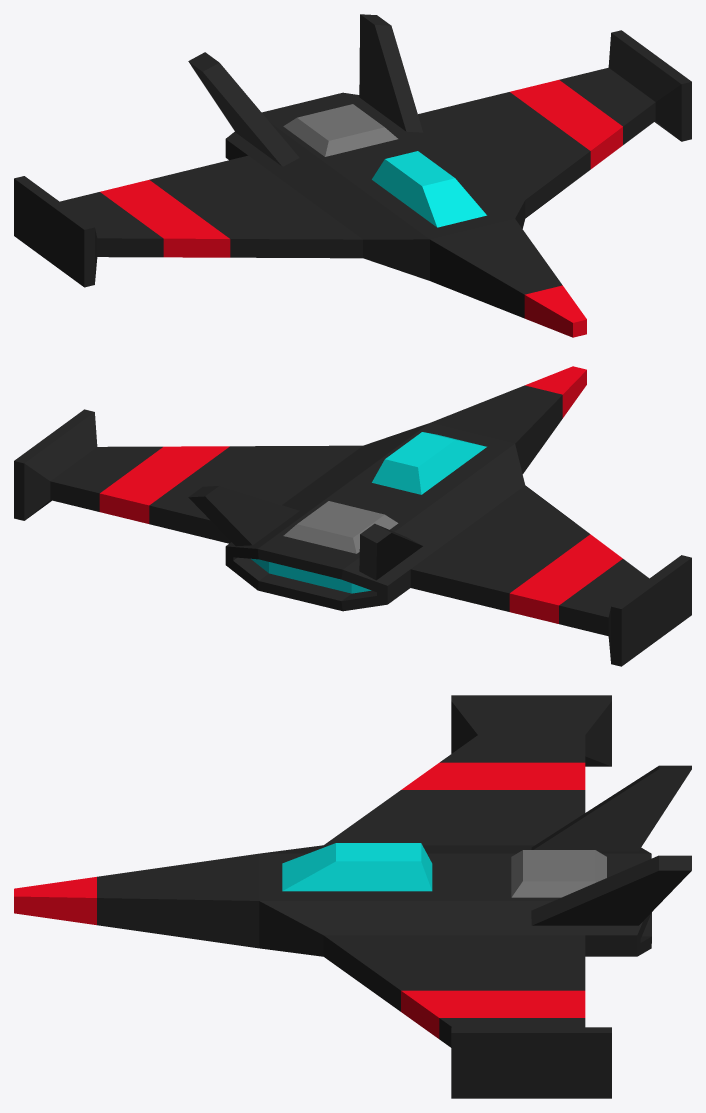
File: ModularJetMedium.fbx
3 renders of one model, top to bottom at view 1: azimuth 30°, elevation 25°; view 2: azimuth 150°, elevation 25°; view 3: azimuth 270°, elevation 25°, orthographic. The views are drawn at different scales.
Visible parts, largest first — view 1: Cube; view 2: Cube; view 3: Cube.
Part boxes in pixels (box(x1,y1,x2,y2)): Cube: box(14, 14, 691, 337); Cube: box(14, 366, 691, 666); Cube: box(14, 695, 691, 1098).
Size of the model in its own units: 24.59 by 3.98 by 20.85.
